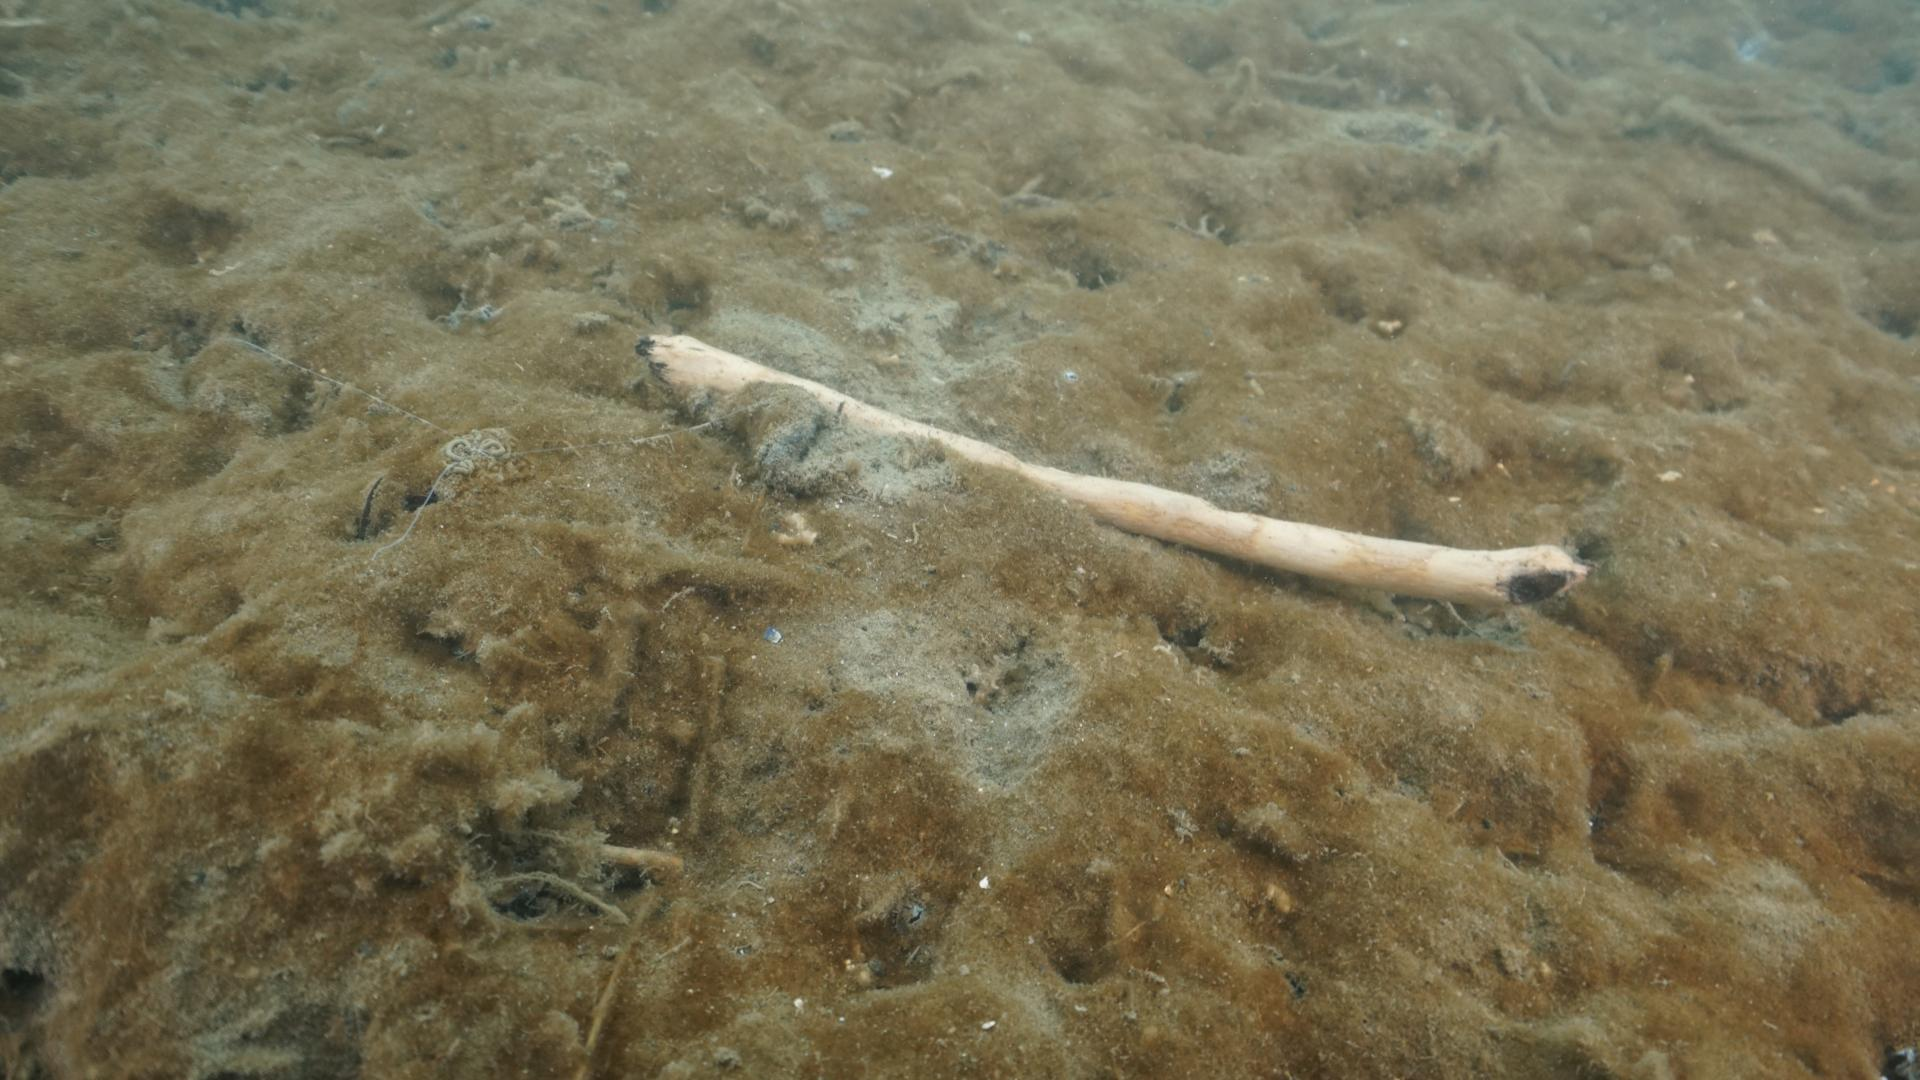wood: (634, 332, 1592, 615)
